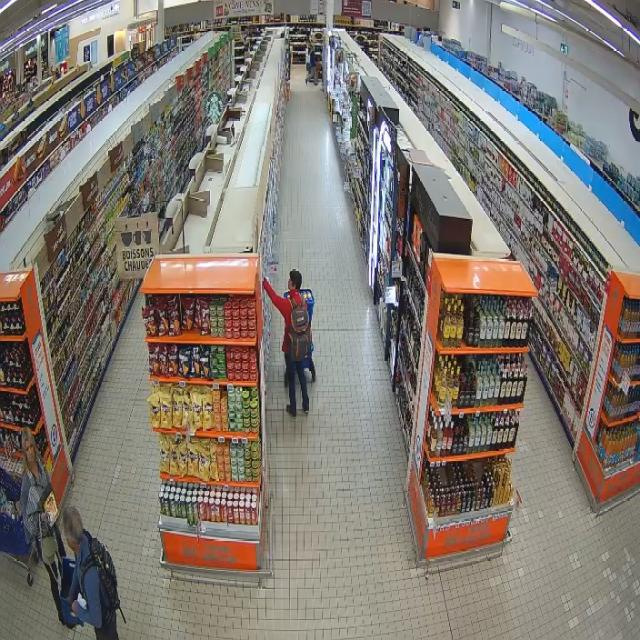article: (43, 491, 60, 528)
bags: (81, 537, 126, 622), (290, 297, 310, 361), (41, 532, 58, 566)
hands: (40, 513, 49, 526), (72, 600, 79, 616)
person: (21, 429, 66, 624), (63, 507, 118, 639), (263, 269, 309, 417)
